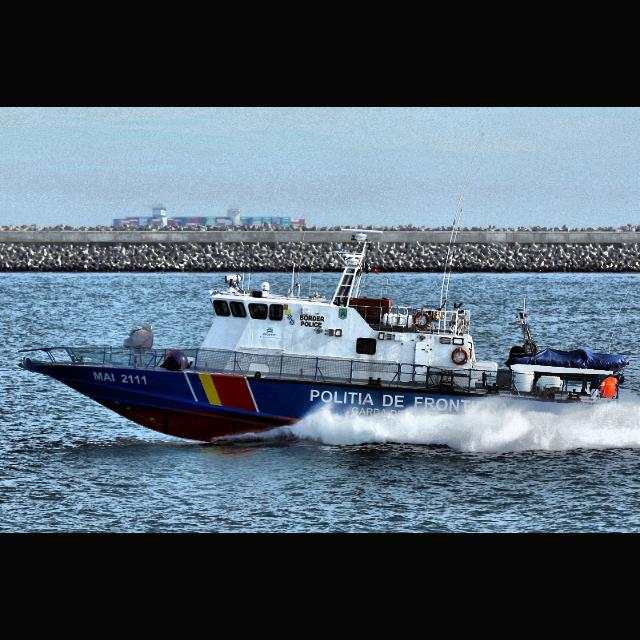patrol_vessel: (17, 226, 633, 449)
